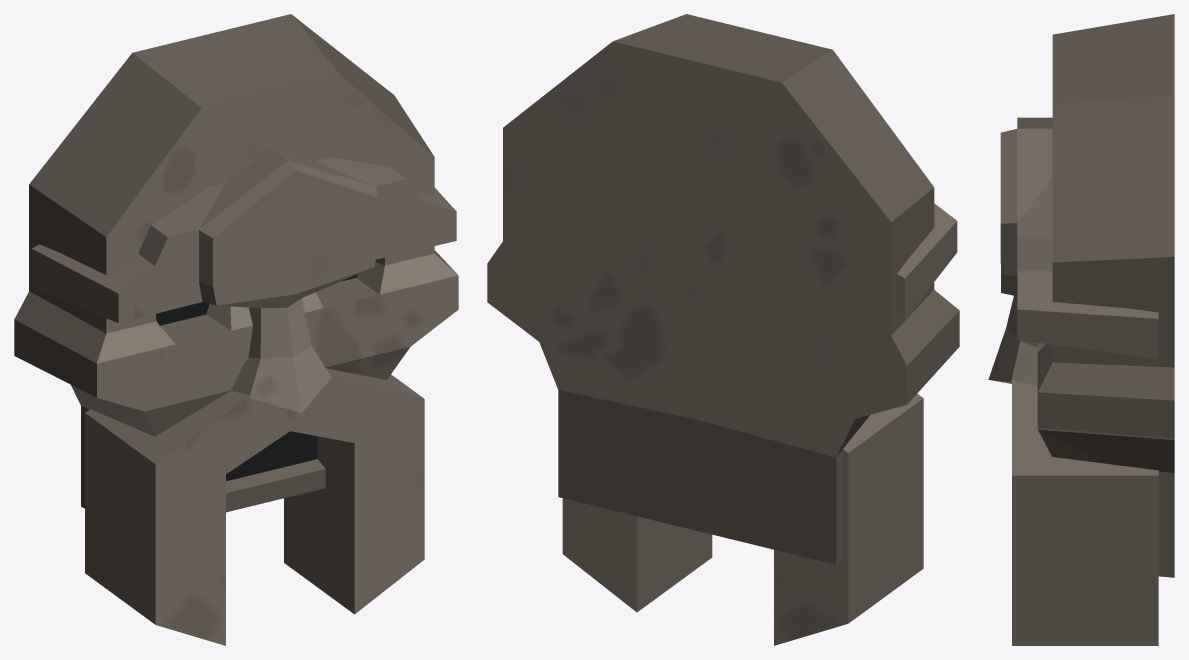
The model's file is forge_trap_head.gltf.
3 views of the same model, side by side, from view 1: azimuth 30°, elevation 25°; view 2: azimuth 150°, elevation 25°; view 3: azimuth 270°, elevation 25° (orthographic). The views are drawn at different scales.
Visible parts, largest first — view 1: forge_trap_head; view 2: forge_trap_head; view 3: forge_trap_head.
Part boxes in pixels (x1,y1,x2,y2): forge_trap_head: (14,14,458,645); forge_trap_head: (487,14,959,645); forge_trap_head: (988,14,1174,645).
Size of the model in its own units: 1.39 by 1.81 by 0.5466.
1 material, 1 textured.
